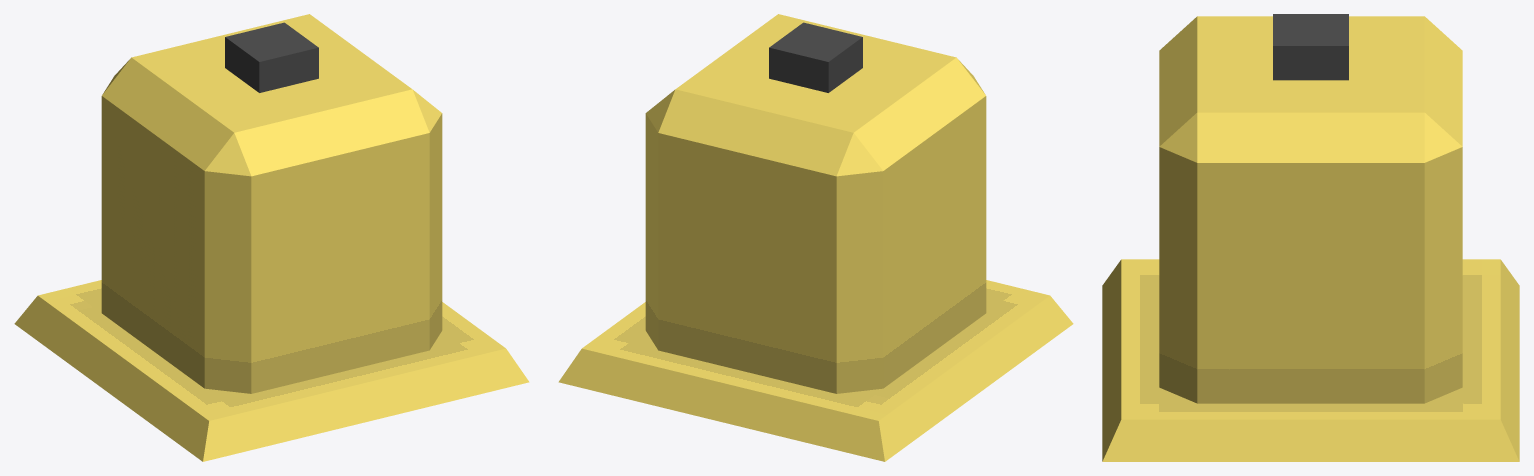
Rendered from bell.glb.
3 views of the same model, side by side, from view 1: azimuth 30°, elevation 25°; view 2: azimuth 150°, elevation 25°; view 3: azimuth 270°, elevation 25° (orthographic). The views are drawn at different scales.
Visible parts, largest first — view 1: beveled_cuboid, bottom, top; view 2: beveled_cuboid, bottom, top; view 3: beveled_cuboid, bottom, top.
Part boxes in pixels (x1=…): beveled_cuboid: x1=101, y1=14, x2=442, y2=393; bottom: x1=14, y1=280, x2=529, y2=461; top: x1=225, y1=22, x2=318, y2=92; beveled_cuboid: x1=645, y1=14, x2=986, y2=393; bottom: x1=558, y1=280, x2=1073, y2=461; top: x1=769, y1=22, x2=862, y2=92; beveled_cuboid: x1=1159, y1=16, x2=1462, y2=403; bottom: x1=1102, y1=259, x2=1519, y2=461; top: x1=1273, y1=14, x2=1348, y2=80.
Size of the model in its own units: 1.38 by 1.44 by 1.38.
1 material, 1 textured.
